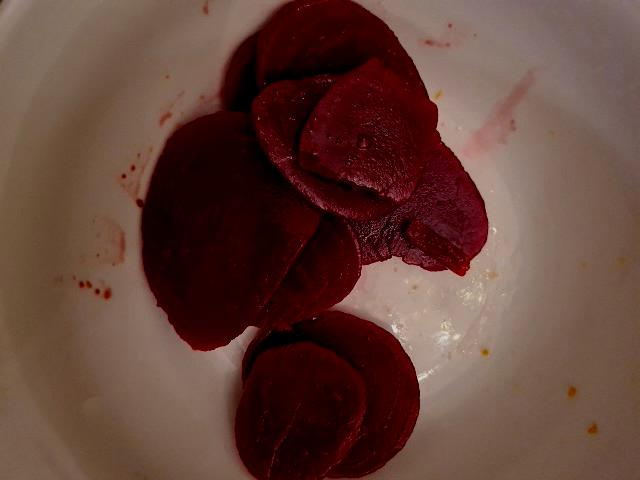kichen waste: (144, 4, 489, 480)
